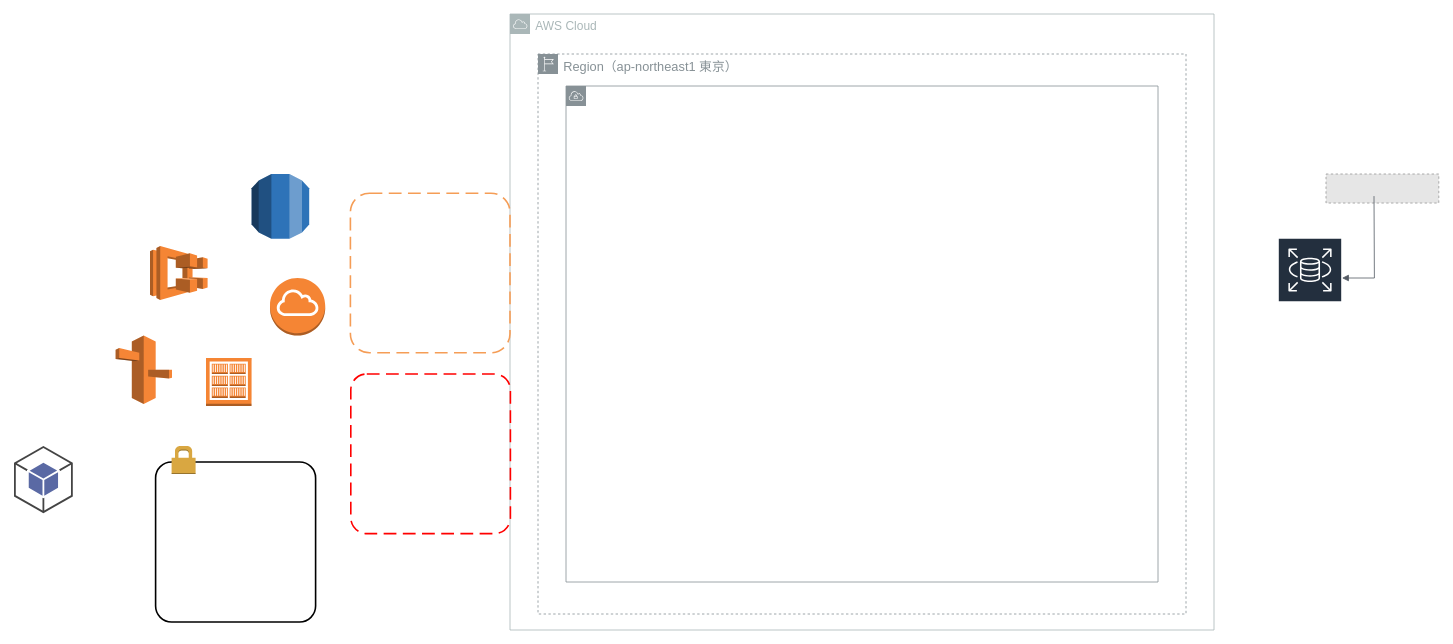
Some shapes in this 1453 by 644 pixel diagram are drawn without their labels. Grey dashed boxes stand in for pictures. The shapes that lost their labels are listed below. From the top down, each one's centre as x and y in pixels, then its label:
the point at 1309,277: Amazon RDS
the point at 861,333: VPC
